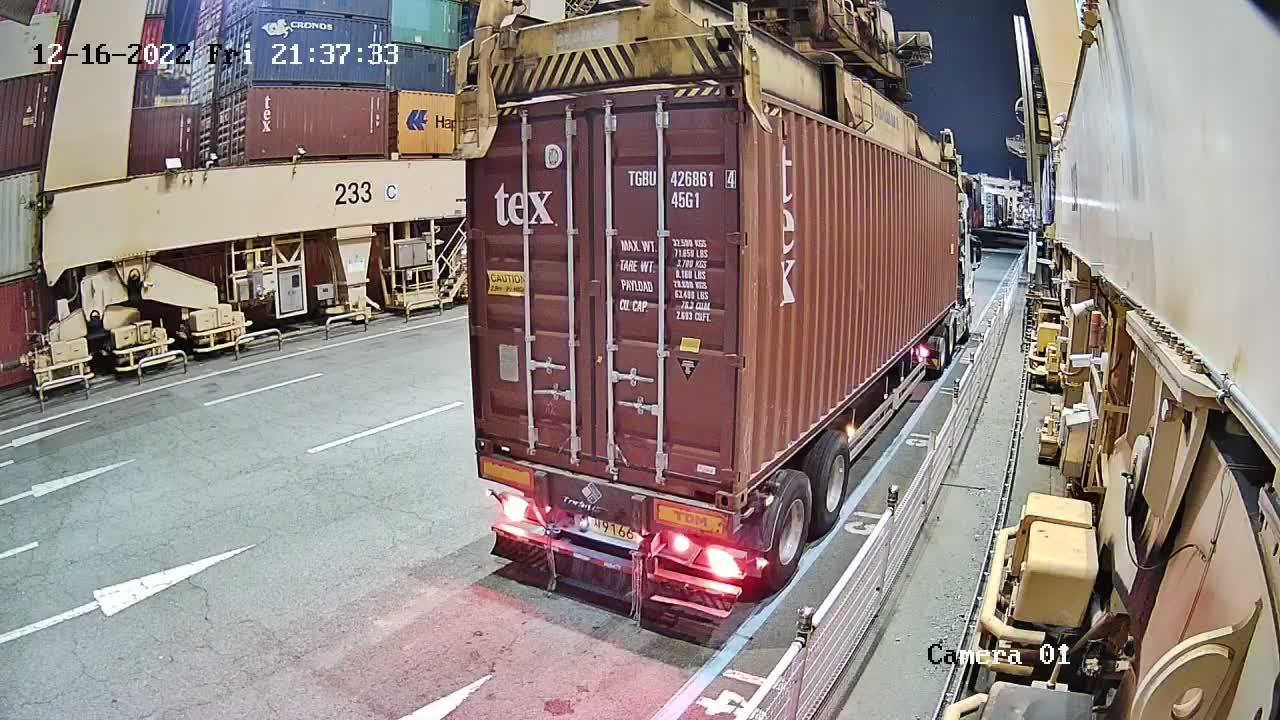Chassis: (478, 457, 738, 544)
Hole_L: (738, 429, 773, 512), (475, 406, 520, 462)
Hole_R: (681, 453, 737, 510)
Tire: (764, 475, 812, 586), (811, 432, 852, 532)
